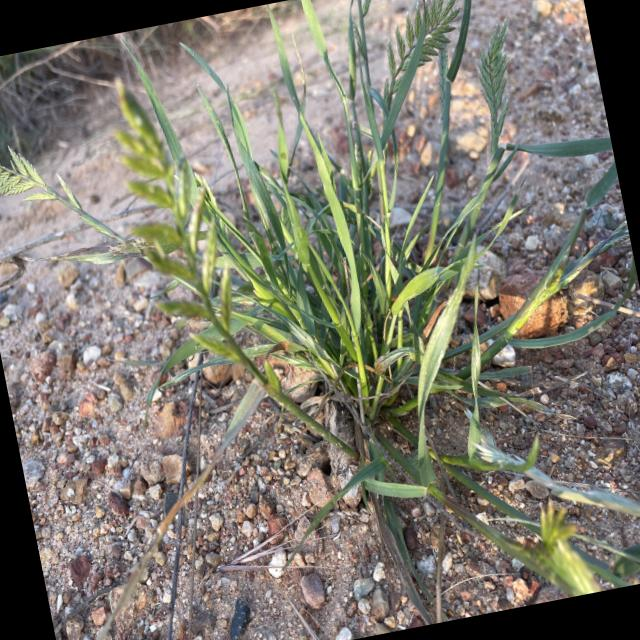Lolium: (106, 65, 247, 376), (0, 118, 86, 233), (372, 0, 472, 88), (466, 18, 530, 145)
